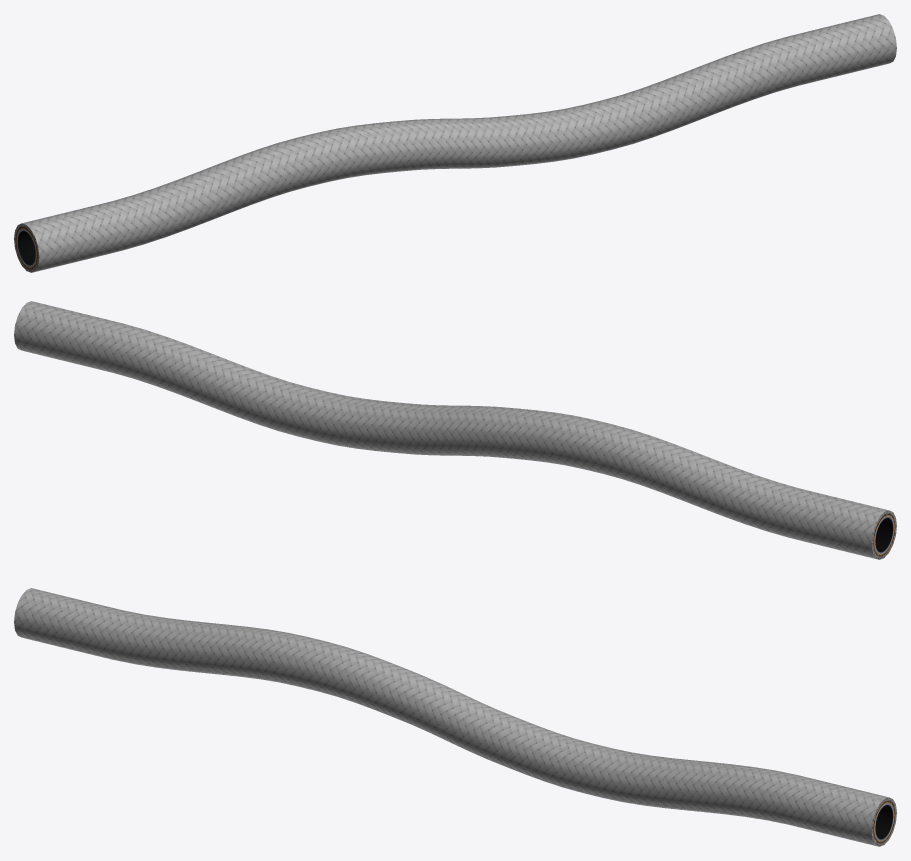
The picture shows the model from 3 angles, top to bottom: view 1: azimuth 30°, elevation 25°; view 2: azimuth 150°, elevation 25°; view 3: azimuth 330°, elevation 25°; orthographic projection.
Visible parts, largest first — view 1: Stainless_Steel_Braid-08.001; view 2: Stainless_Steel_Braid-08.001; view 3: Stainless_Steel_Braid-08.001.
Boxes of the visible parts, x1,y1,x2,y2 form: Stainless_Steel_Braid-08.001: (14,14,896,272); Stainless_Steel_Braid-08.001: (14,301,896,559); Stainless_Steel_Braid-08.001: (14,588,896,846).
Bounding box in the file's own units: 0.3074 × 0.0284 × 0.0157.
Materials: 2 (2 with a texture image).
